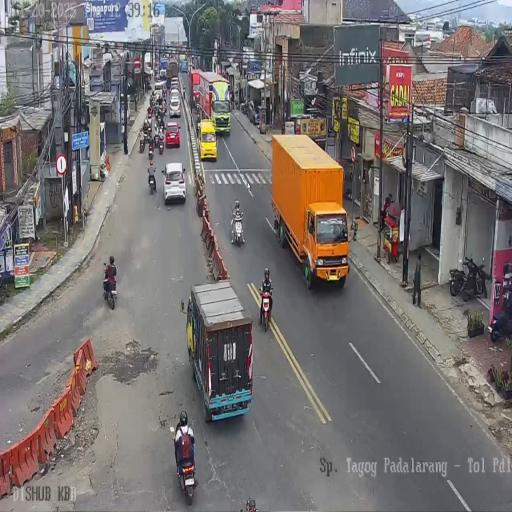car: (163, 162, 187, 204), (198, 118, 218, 161), (165, 120, 181, 148), (169, 90, 181, 118), (171, 78, 179, 94), (180, 60, 188, 72), (160, 68, 167, 80)
motorcycle: (174, 425, 197, 501), (461, 255, 485, 301), (489, 307, 510, 342), (259, 283, 273, 331), (102, 267, 117, 309), (448, 263, 466, 296), (230, 206, 244, 246), (147, 166, 157, 194), (157, 130, 165, 154), (156, 109, 164, 130), (139, 129, 146, 153), (148, 134, 154, 159), (194, 95, 201, 114), (241, 100, 249, 114)
truck: (268, 132, 342, 291), (184, 277, 253, 418), (166, 60, 178, 82), (144, 52, 152, 75)
